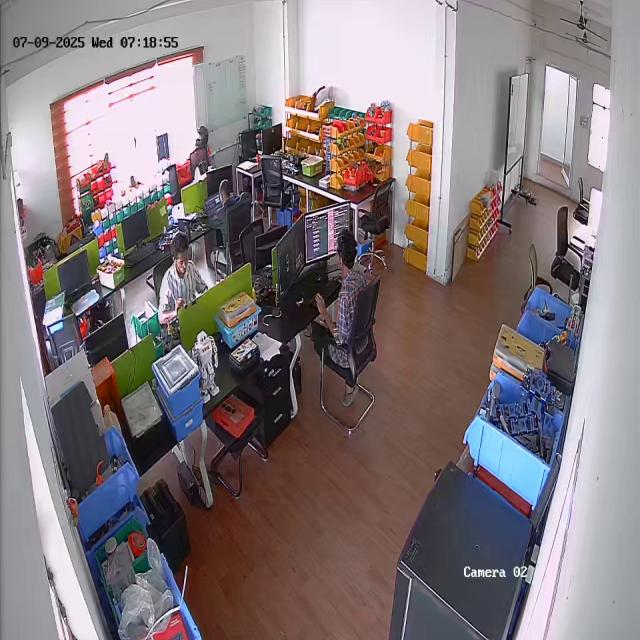person: (316, 227, 372, 403), (153, 230, 205, 317), (203, 178, 244, 267)
